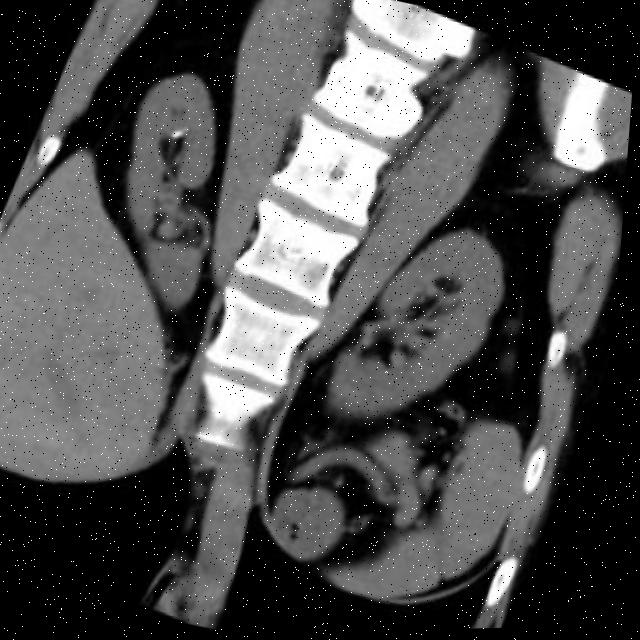Tas_Var: (172, 130, 185, 140), (170, 132, 181, 142)
